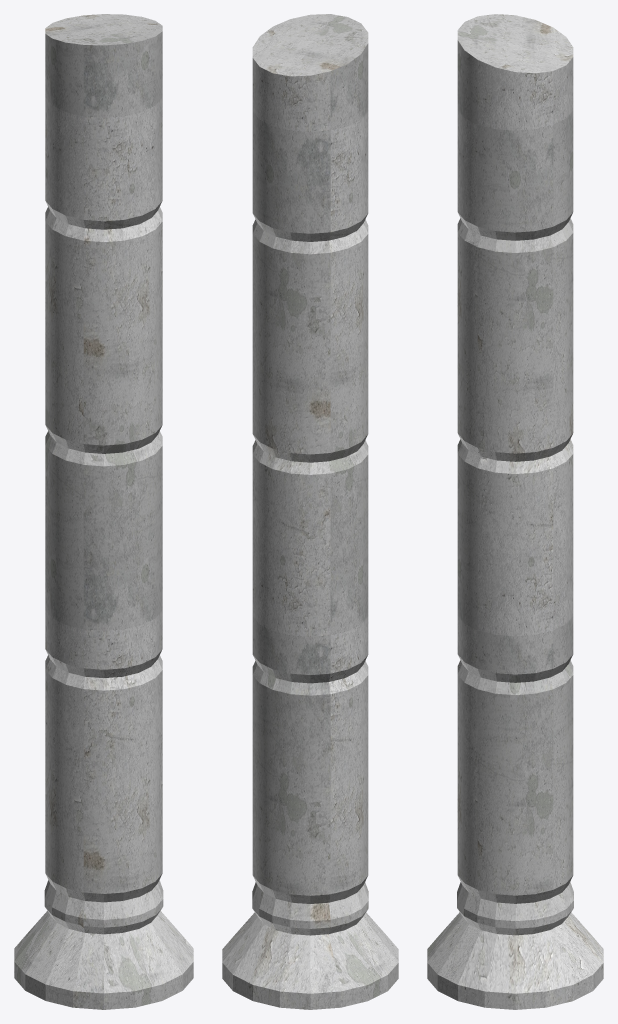
Rendered from pillar2.obj.
The picture shows the model from 3 angles, left to right: view 1: azimuth 30°, elevation 25°; view 2: azimuth 150°, elevation 25°; view 3: azimuth 270°, elevation 25°; orthographic projection.
Parts seen in each view (by area): view 1: Cylinder002; view 2: Cylinder002; view 3: Cylinder002.
Boxes of the visible parts, x1=… form: Cylinder002: x1=14, y1=14, x2=193, y2=1009; Cylinder002: x1=222, y1=14, x2=398, y2=1009; Cylinder002: x1=427, y1=14, x2=603, y2=1009.
Size of the model in its own units: 8.83 by 50.91 by 8.69.
